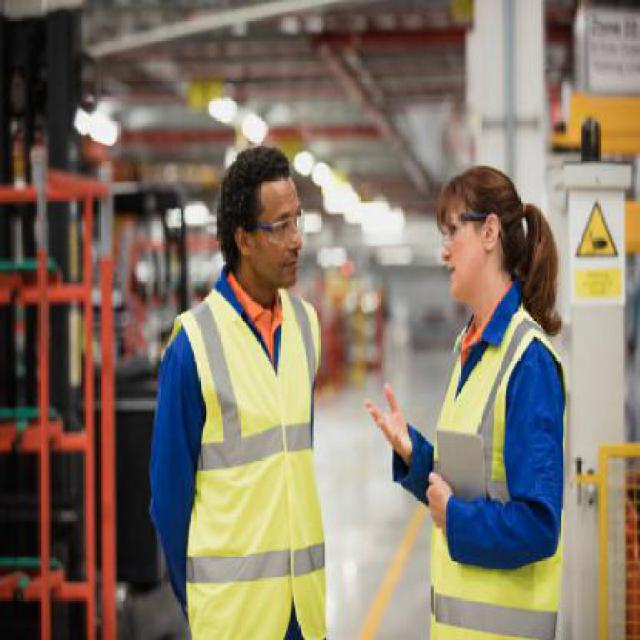glass: (250, 206, 307, 250), (435, 206, 479, 250)
head: (427, 158, 530, 286), (209, 138, 310, 258)
person: (136, 135, 352, 635), (369, 137, 581, 626)
vest: (151, 281, 337, 636), (409, 304, 570, 633)
